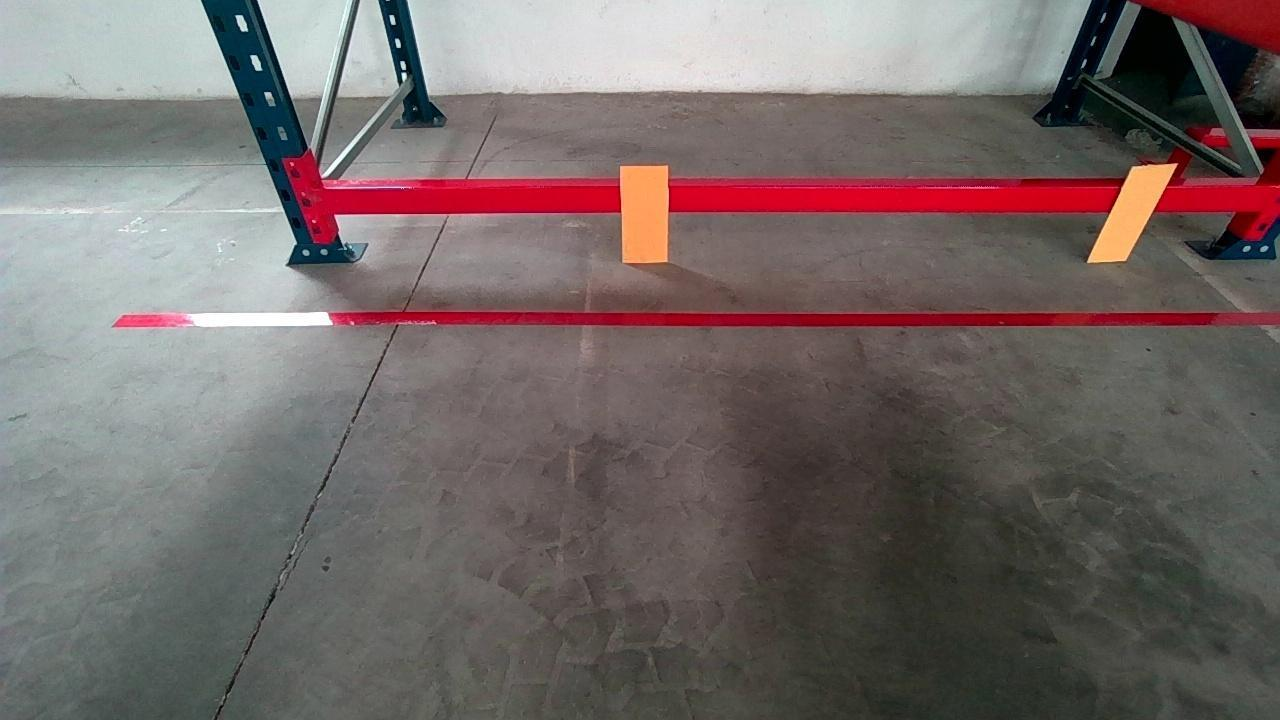h_rack: (329, 184, 1278, 210)
orange_strip: (1088, 163, 1179, 260), (621, 164, 670, 261)
red_line: (106, 310, 1280, 329)
